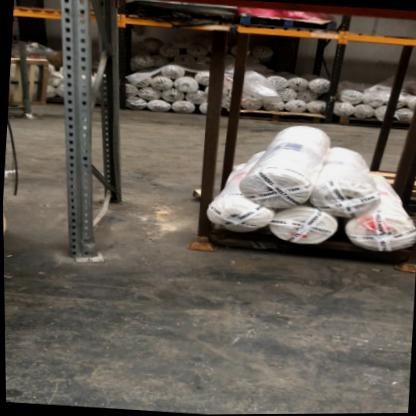vertical_damage: (63, 227, 111, 269)
